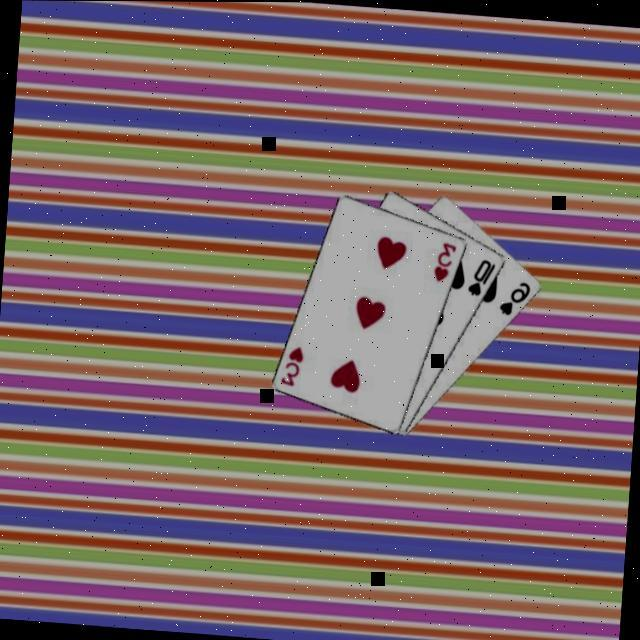10S: (466, 256, 500, 300)
3H: (432, 238, 461, 286), (279, 341, 308, 389)
6S: (498, 276, 534, 318)
